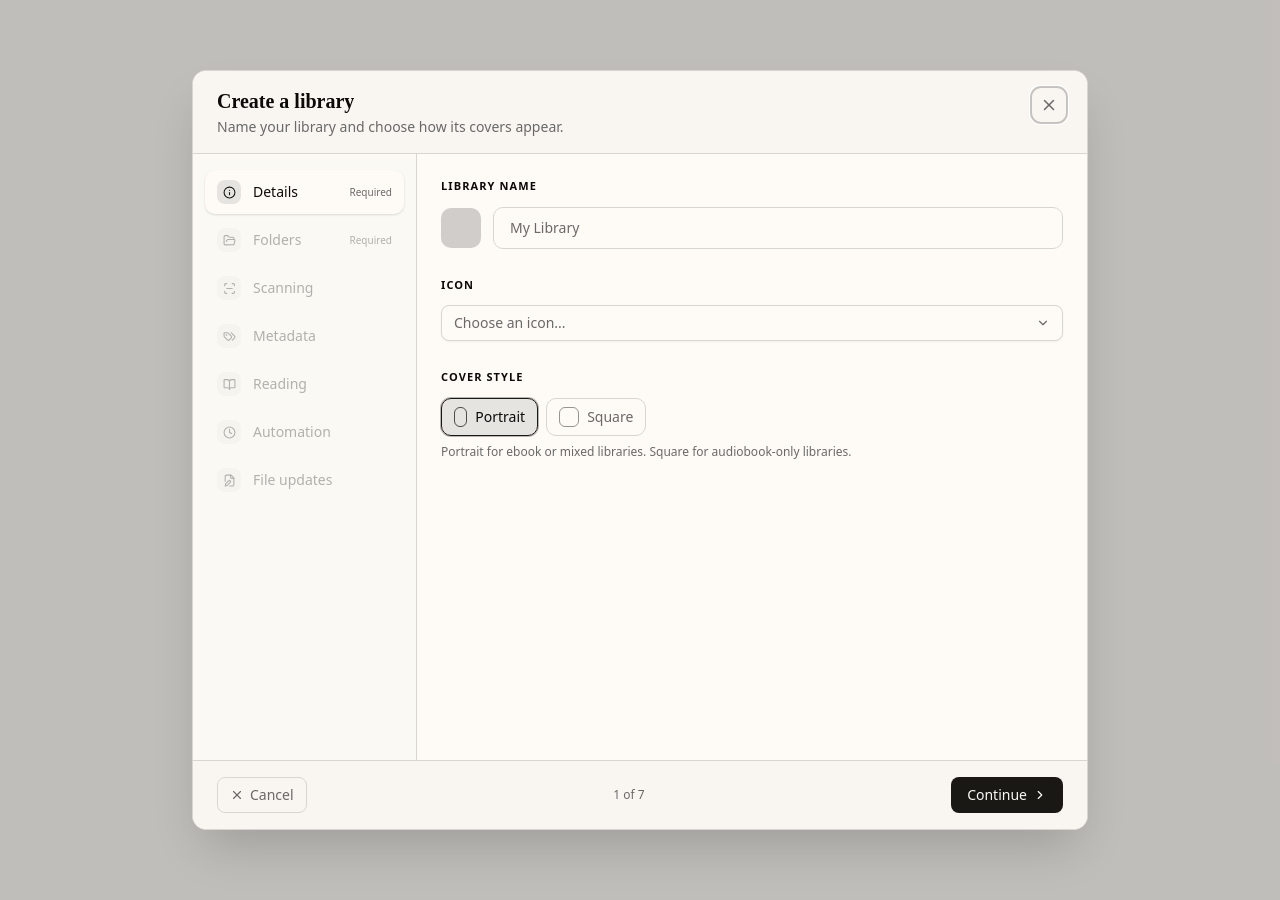
LibraryCreatorModal › shows required-field validation only after continuing
What coordinates should you click on to do the following:
click the button "Continue"
I would click on:
 (1007, 795)
Its box is [951,777,1063,813].
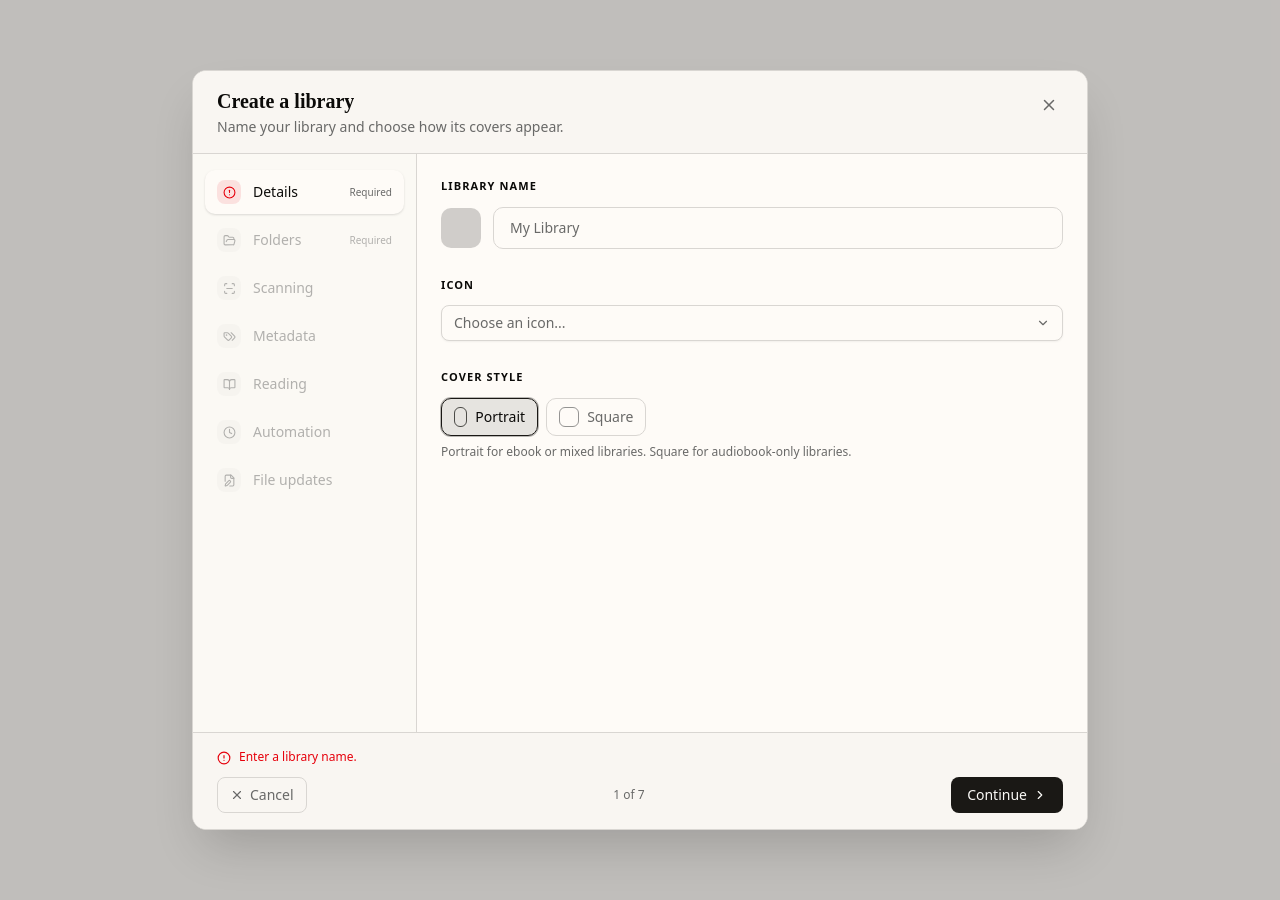
Now the message "Enter a library name." is shown, box [217,748,357,765]
